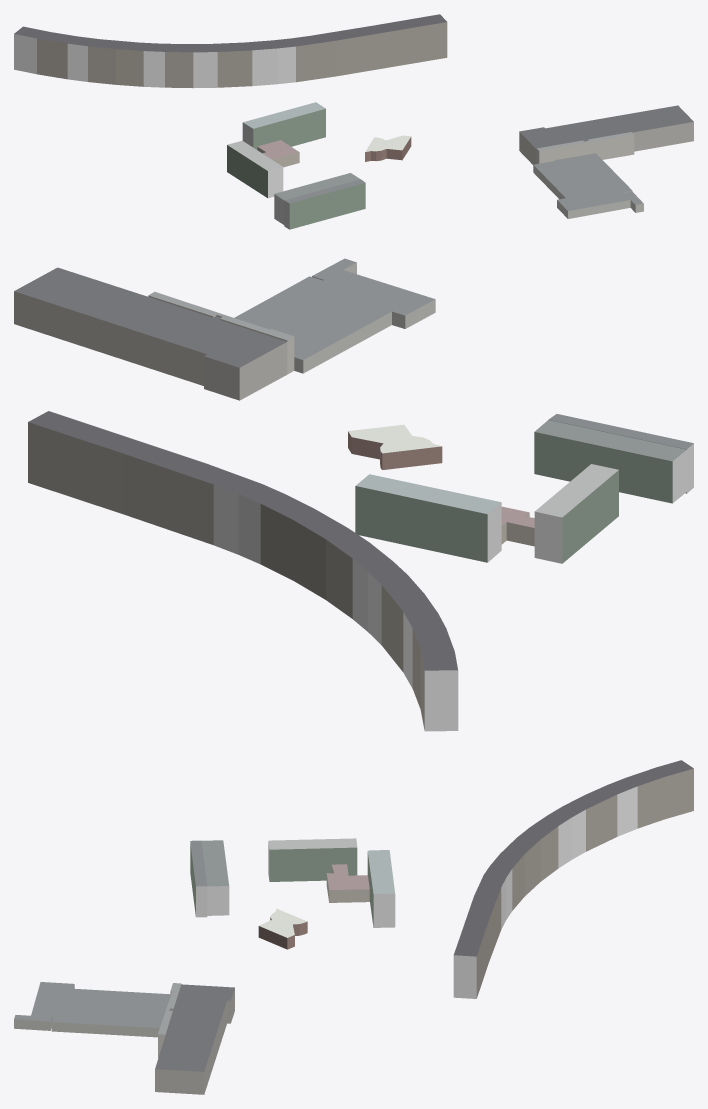
The picture shows the model from 3 angles, top to bottom: view 1: azimuth 30°, elevation 25°; view 2: azimuth 150°, elevation 25°; view 3: azimuth 270°, elevation 25°; orthographic projection. The views are drawn at different scales.
Parts seen in each view (by area): view 1: tuile; view 2: tuile; view 3: tuile.
Part boxes in pixels (box(x1,y1,x2,y2)): tuile: box(14, 14, 693, 229); tuile: box(14, 258, 693, 731); tuile: box(14, 760, 693, 1094).
Size of the model in its own units: 310 by 38.95 by 333.
